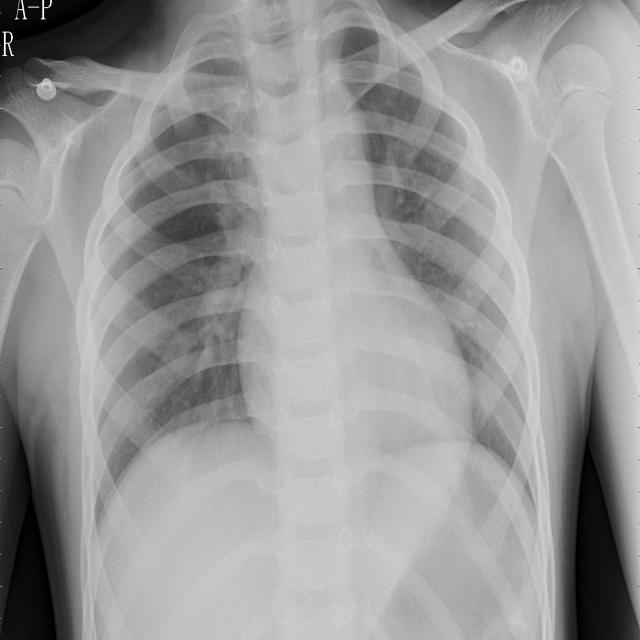low-pneumonia: (197, 66, 262, 254), (184, 254, 248, 381)
